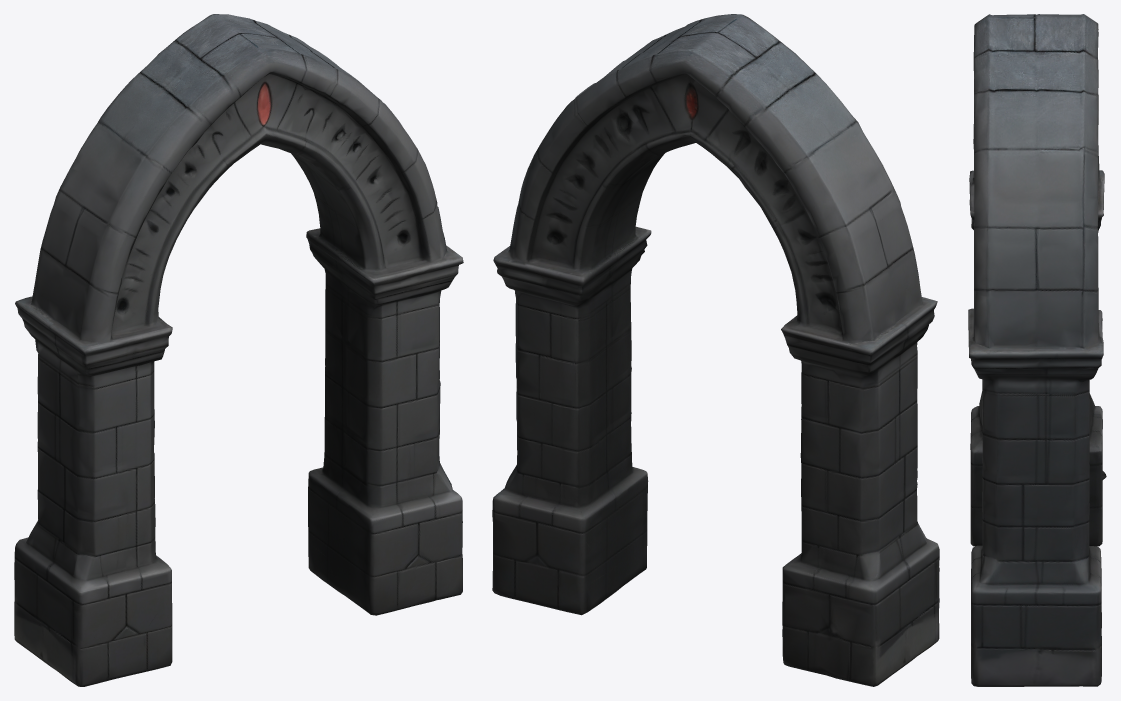
Rendered from gate_archway.glb.
The picture shows the model from 3 angles, left to right: view 1: azimuth 30°, elevation 25°; view 2: azimuth 150°, elevation 25°; view 3: azimuth 270°, elevation 25°; orthographic projection.
Size of the model in its own units: 1.38 by 2 by 0.4339.
1 material, 1 textured.
